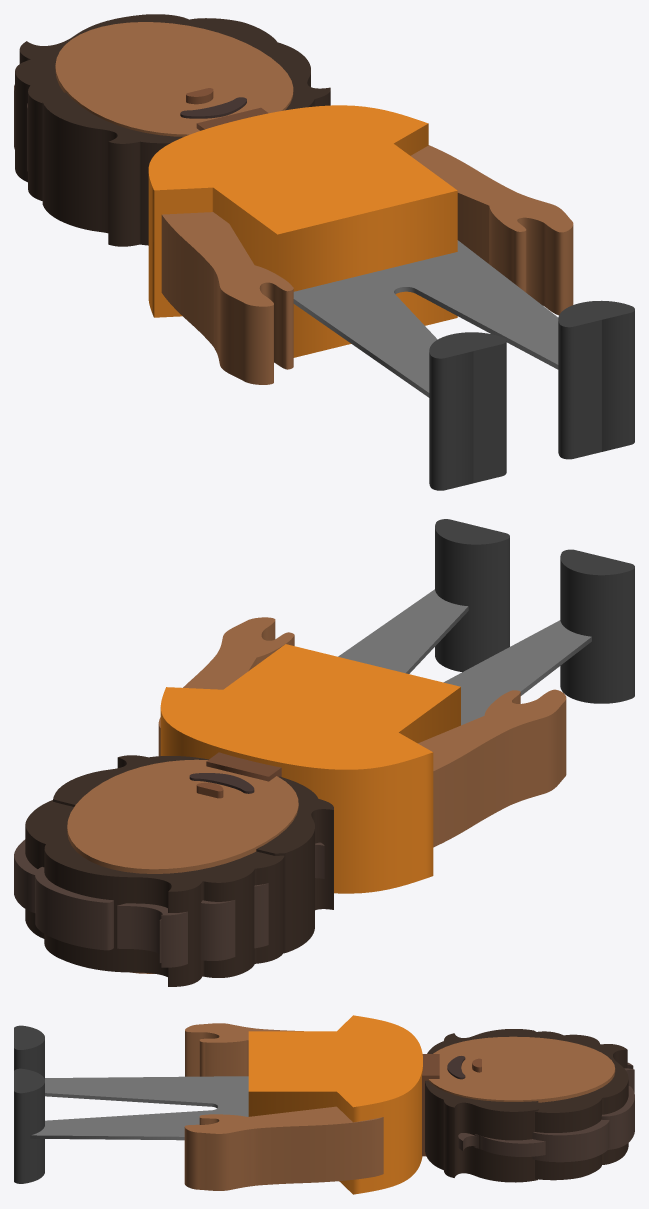
File: emoji_u1f9cd_1f3fe.glb
3 views of the same model, one above another, from view 1: azimuth 30°, elevation 25°; view 2: azimuth 150°, elevation 25°; view 3: azimuth 270°, elevation 25° (orthographic). The views are drawn at different scales.
Parts seen in each view (by area): view 1: emoji_u1f9cd_1f3fe; view 2: emoji_u1f9cd_1f3fe; view 3: emoji_u1f9cd_1f3fe.
Part boxes in pixels (bbox=[...]): emoji_u1f9cd_1f3fe: bbox=[14, 14, 634, 490]; emoji_u1f9cd_1f3fe: bbox=[14, 519, 634, 986]; emoji_u1f9cd_1f3fe: bbox=[14, 1015, 634, 1194].
Bounding box in the file's own units: 0.0143 × 0.0054 × 0.0335.
